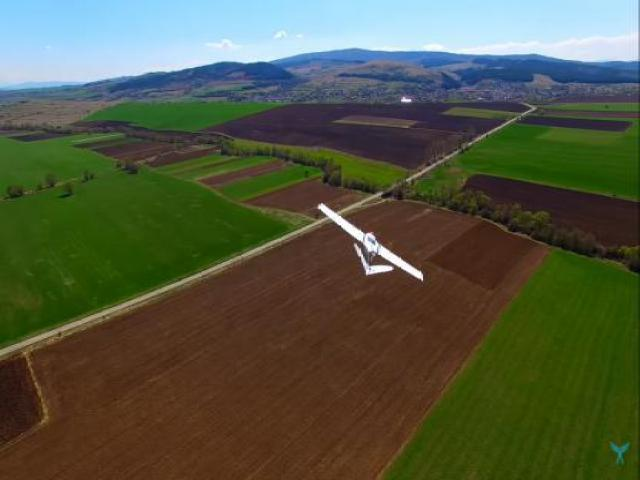uav: (312, 196, 431, 292)
